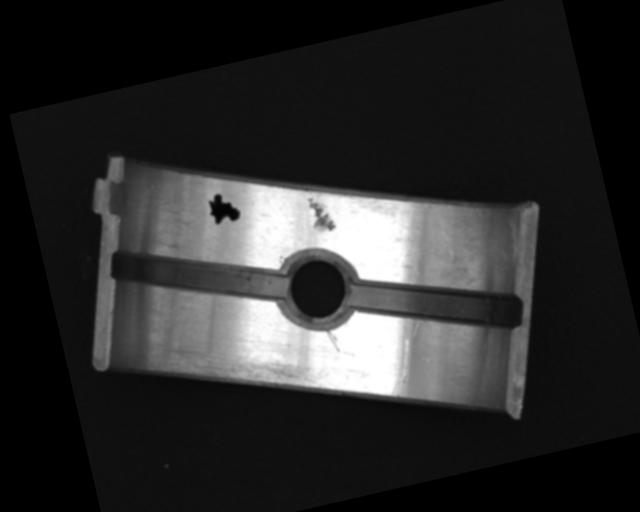blot: (205, 190, 241, 226)
bruise: (305, 193, 336, 235)
gap: (108, 218, 288, 335), (348, 251, 522, 359)
hole: (272, 244, 361, 335)
nick: (380, 337, 422, 398), (324, 327, 341, 355)
scratch: (160, 330, 315, 418)
